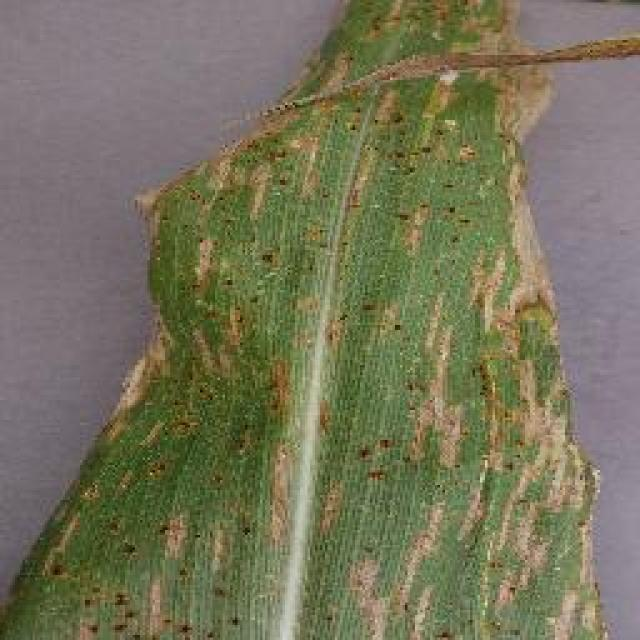Corn___Northern_Leaf_Blight: (0, 2, 632, 639)
